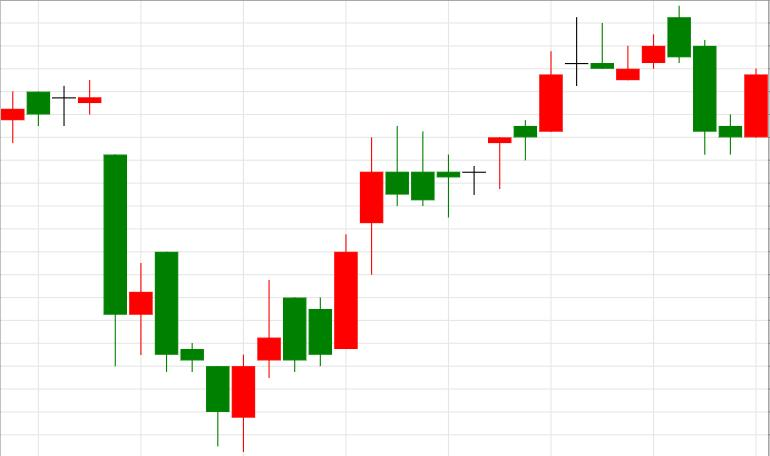bullish_engulfing_rise: (103, 155, 255, 452)
